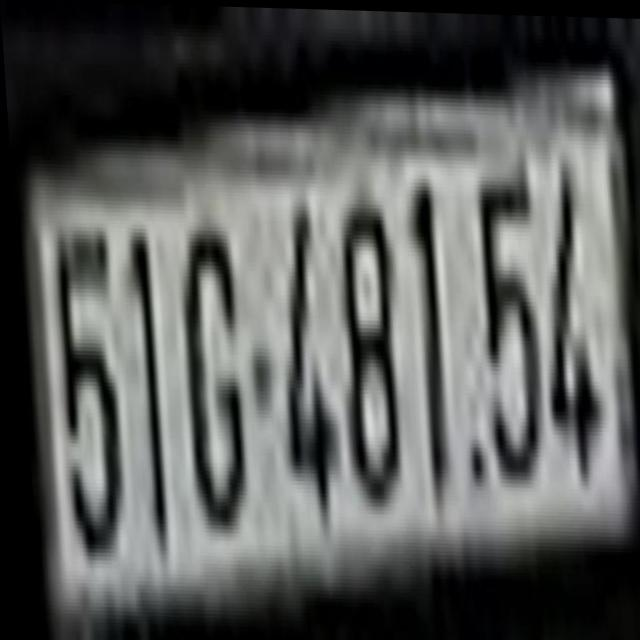1: (405, 180, 456, 526), (118, 212, 165, 558)
4: (530, 152, 605, 498), (265, 199, 337, 539)
5: (44, 218, 124, 561), (468, 150, 545, 486)
8: (331, 189, 406, 517)
G: (166, 209, 248, 564)
